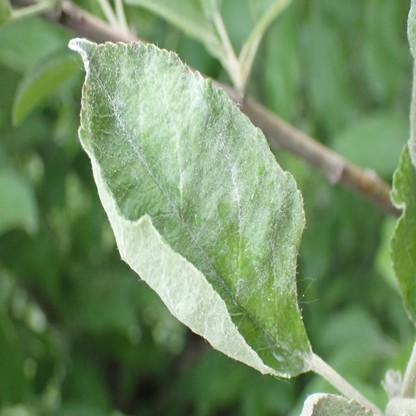powder: (69, 38, 315, 376), (300, 394, 373, 413)
